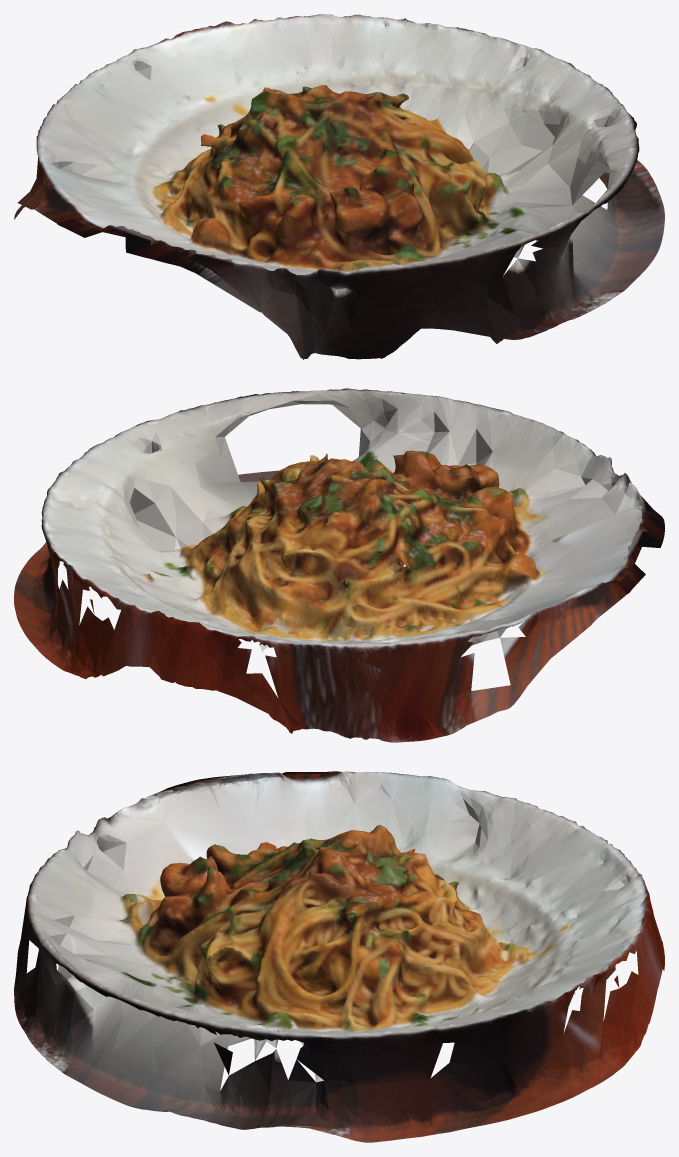
File: pasta.glb
3 renders of one model, top to bottom at view 1: azimuth 30°, elevation 25°; view 2: azimuth 150°, elevation 25°; view 3: azimuth 270°, elevation 25°, orthographic. The views are drawn at different scales.
Visible parts, largest first — view 1: mesh; view 2: mesh; view 3: mesh.
Boxes of the visible parts, x1=… form: mesh: x1=14, y1=14, x2=664, y2=359; mesh: x1=14, y1=388, x2=664, y2=742; mesh: x1=14, y1=771, x2=664, y2=1142.
Size of the model in its own units: 0.2863 by 0.0758 by 0.2729.
Materials: 1 (1 with a texture image).
